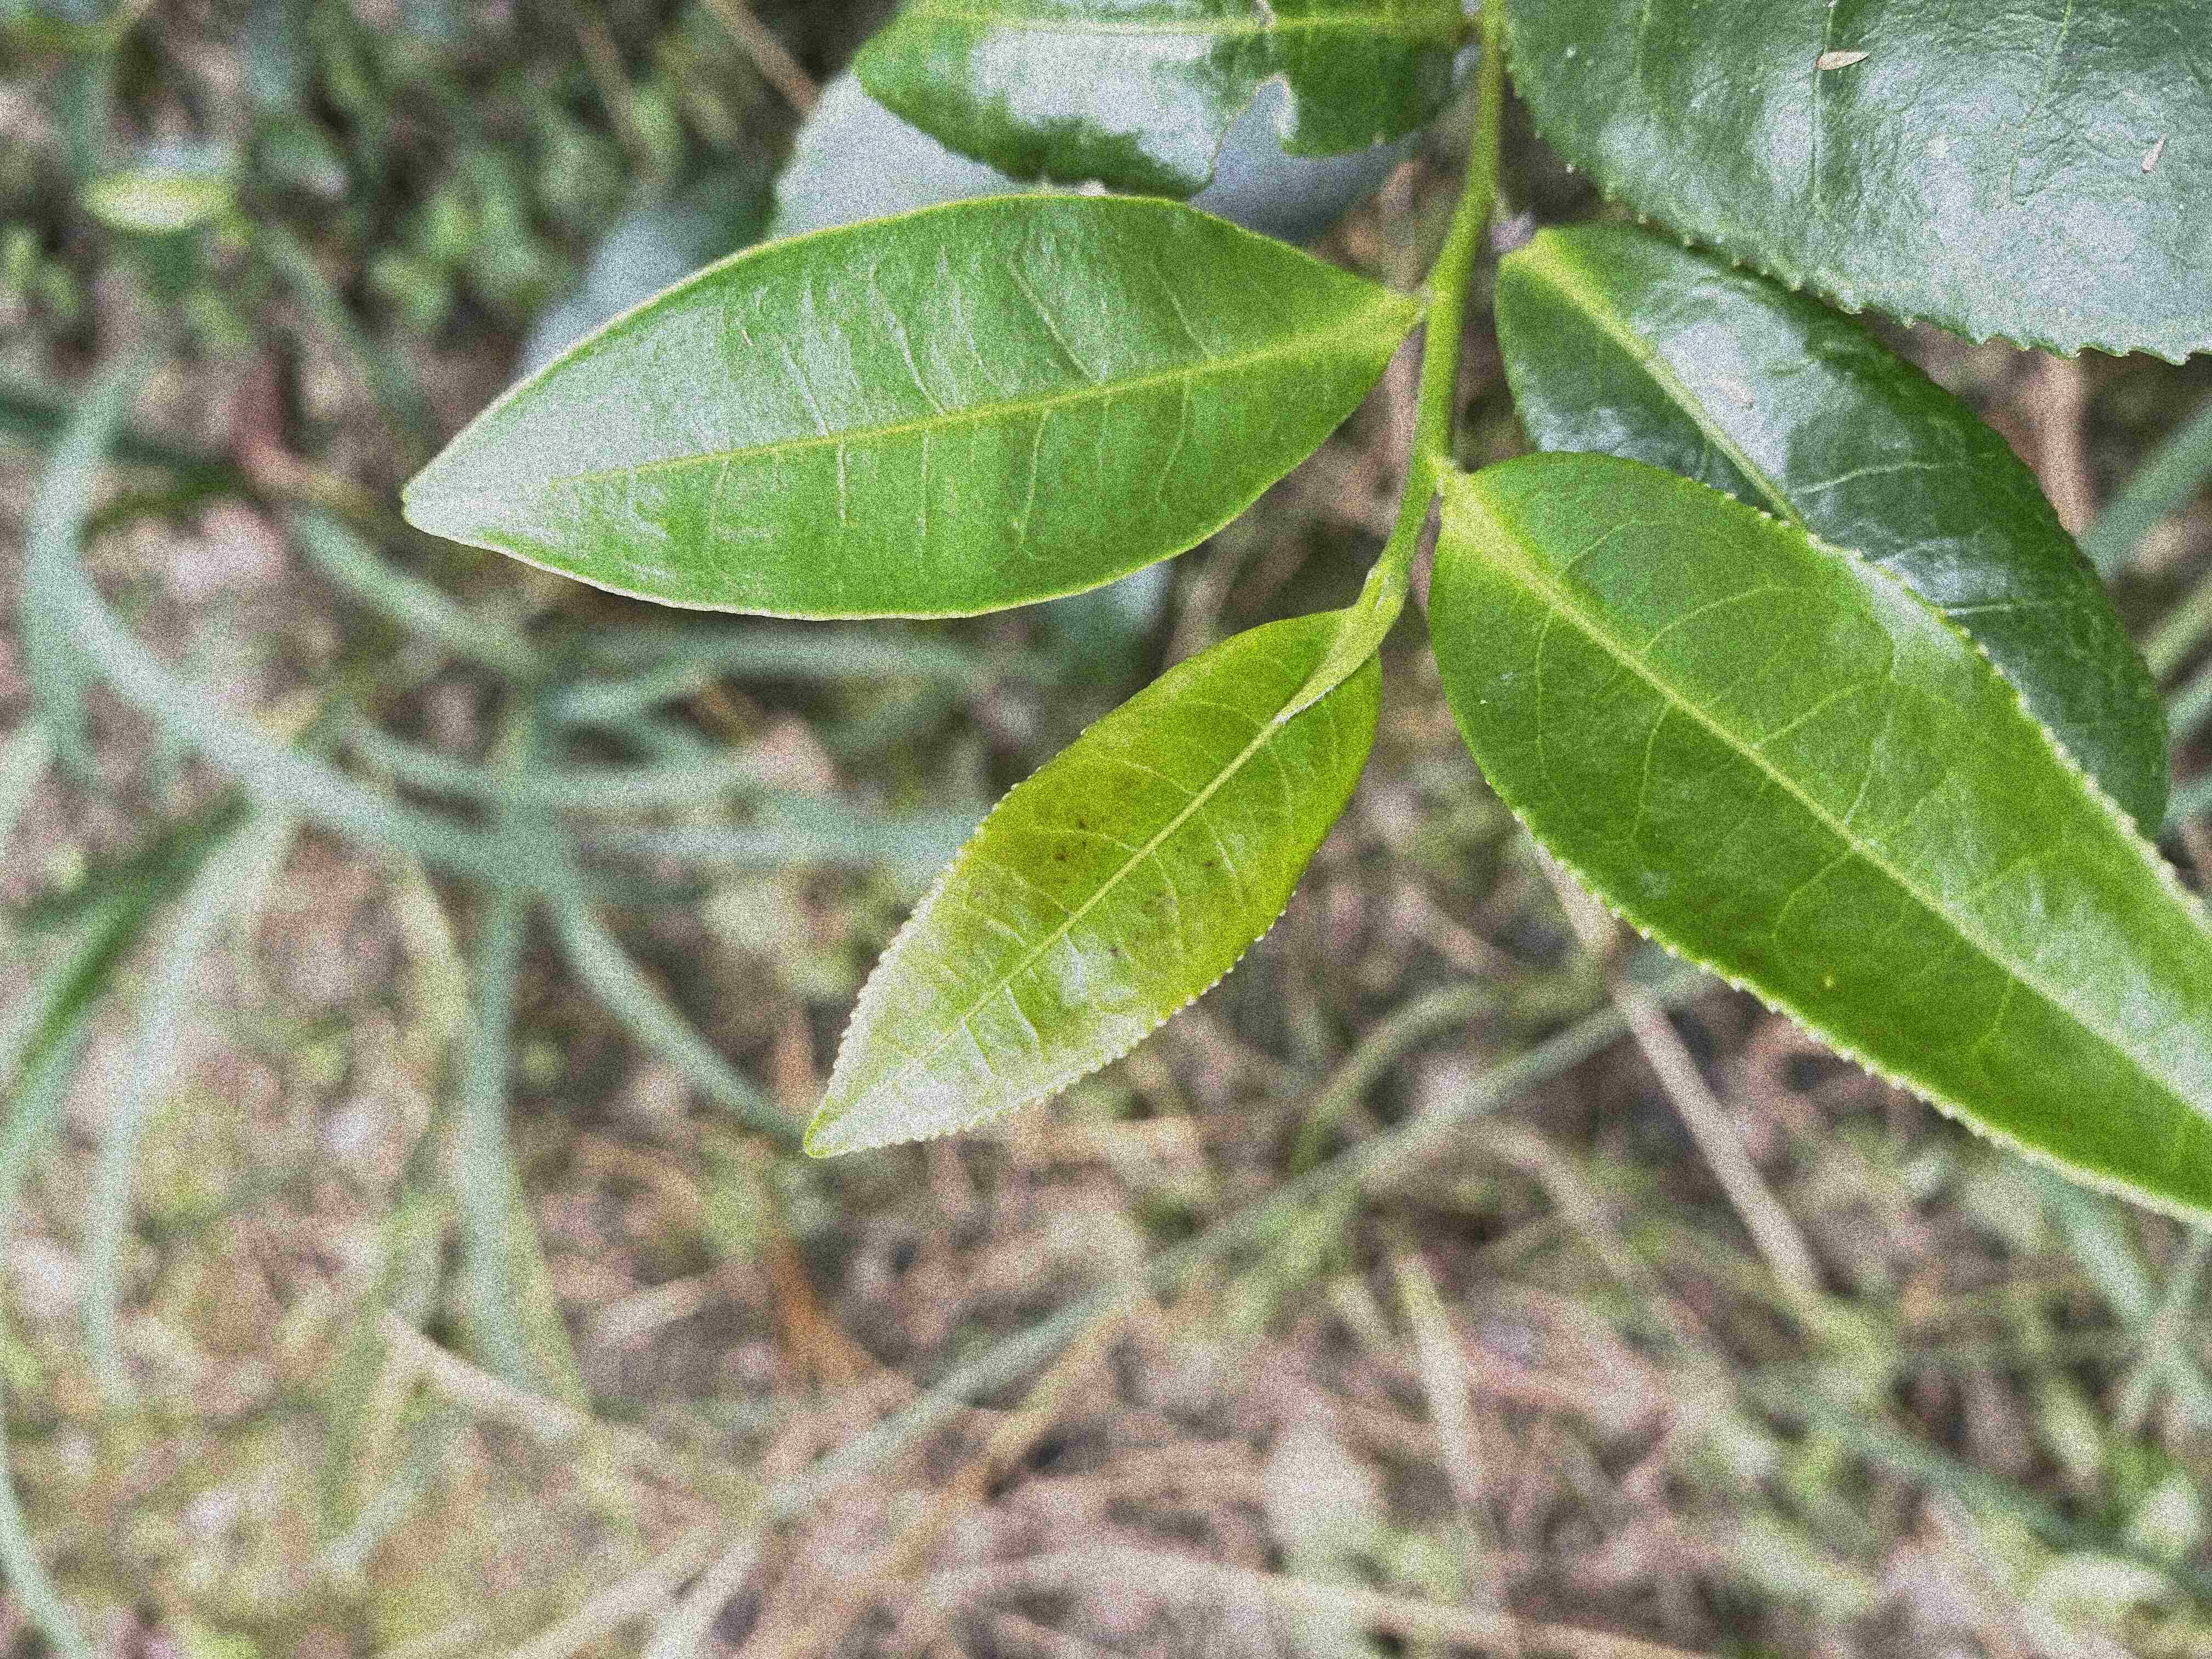chihuo_low: (852, 5, 1467, 195)
healthy: (1428, 451, 2210, 1230), (401, 192, 1404, 622)
tanju_low: (801, 603, 1381, 1161)
